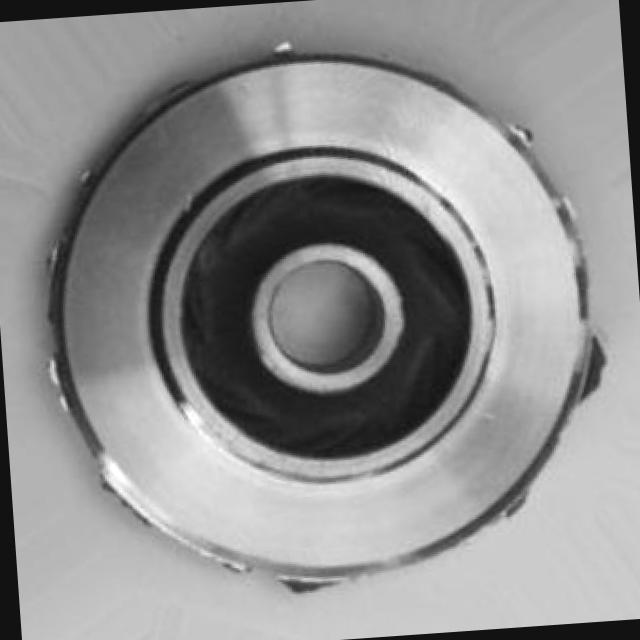Defect: (570, 312, 618, 408)
